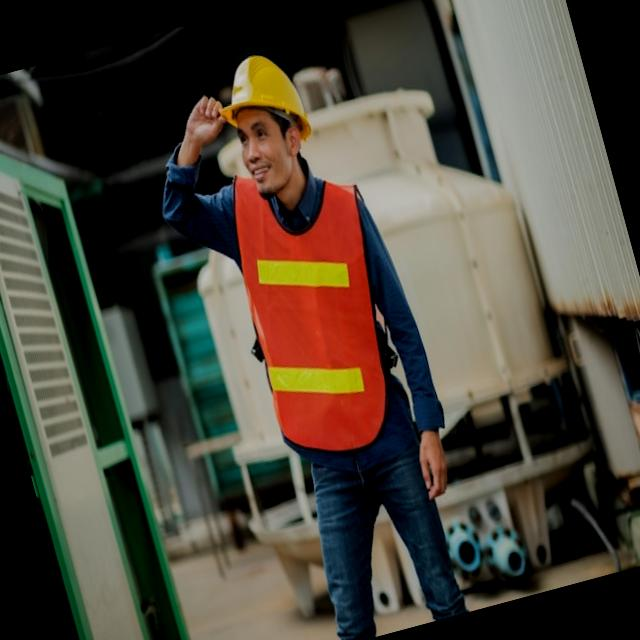helmet: (207, 34, 316, 151)
no-goggles: (224, 106, 309, 168)
vest: (206, 150, 418, 468)
